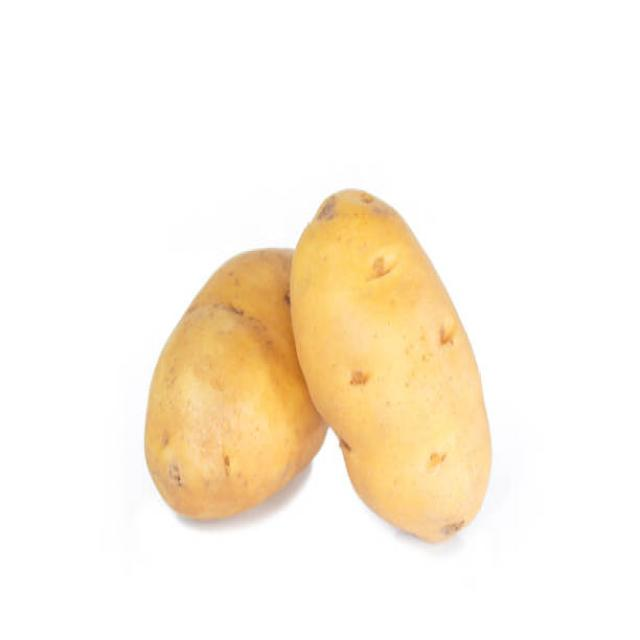Potato: (316, 186, 496, 539), (140, 236, 300, 534)
